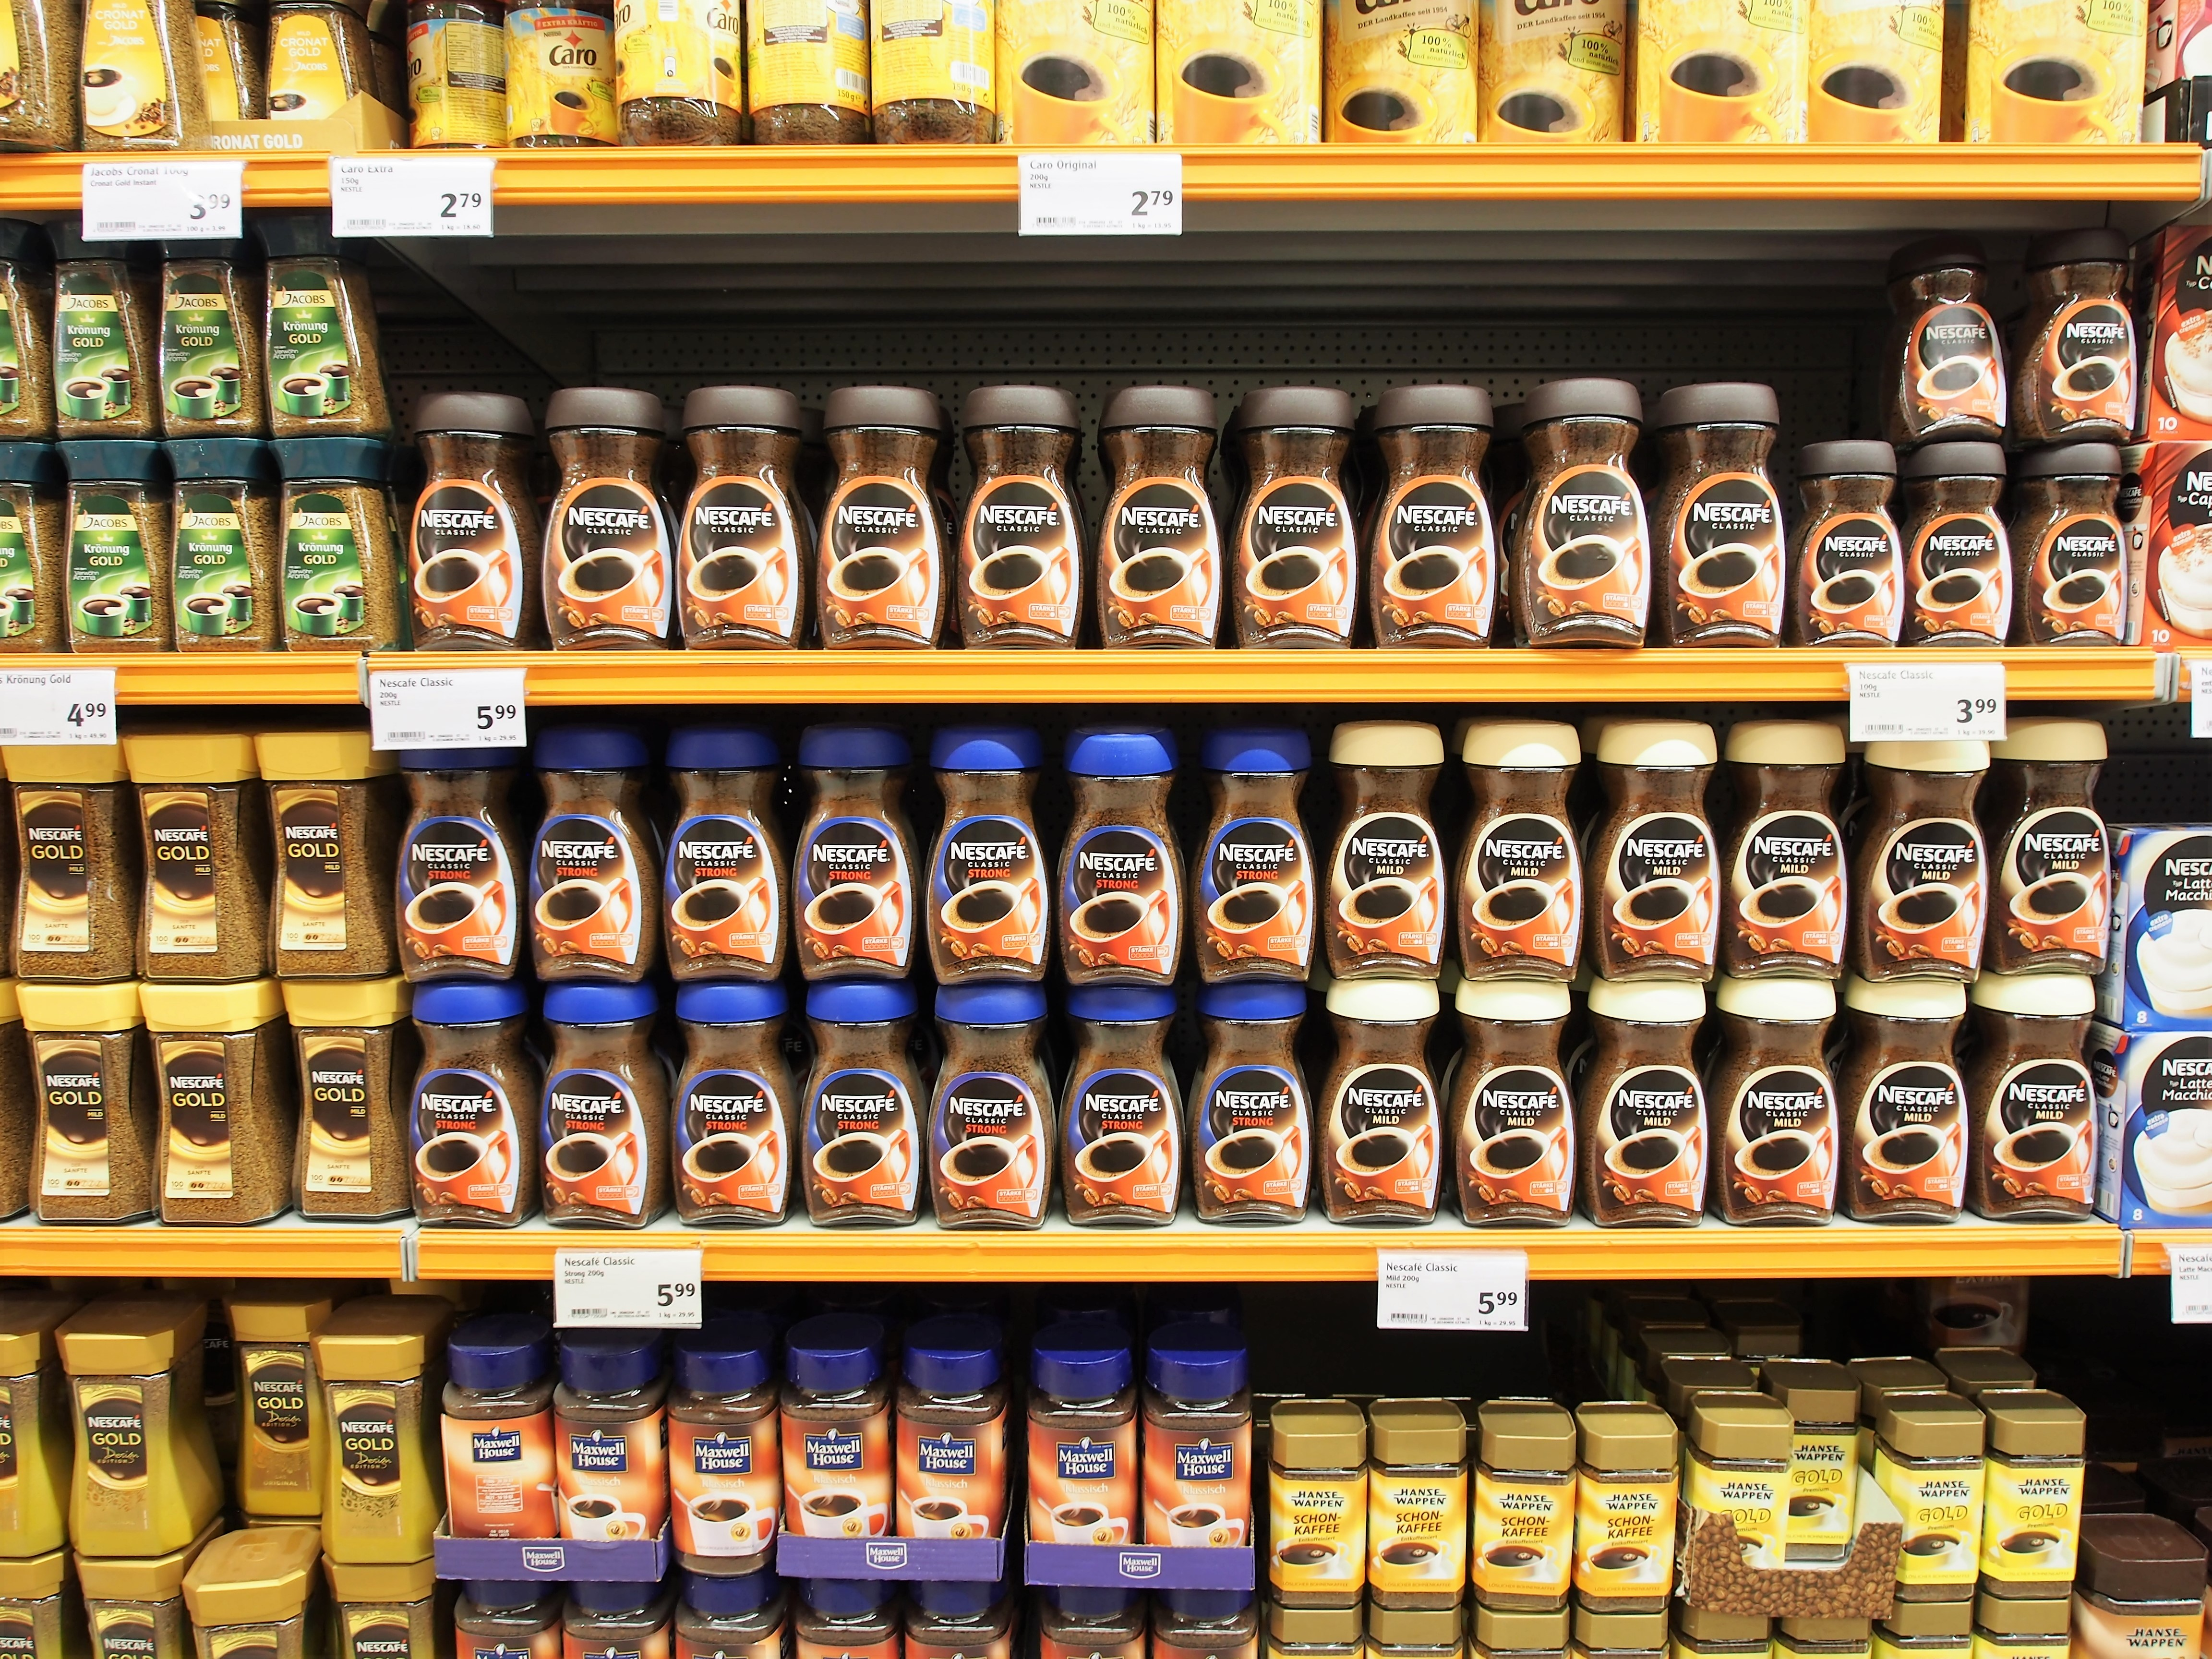NesCafe100GBlue: (1054, 727, 1183, 1019)
NesCafe100GBrown: (1521, 375, 1642, 647), (820, 383, 944, 647)
NesCafe100GGold: (279, 985, 406, 1234)
NesCafe100GWhite: (1463, 727, 1580, 990)
